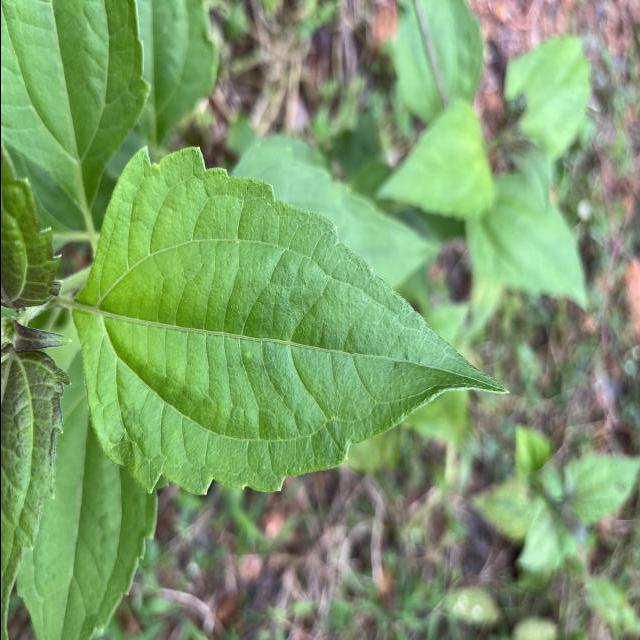Chromolaena odorata: (62, 136, 514, 504)
